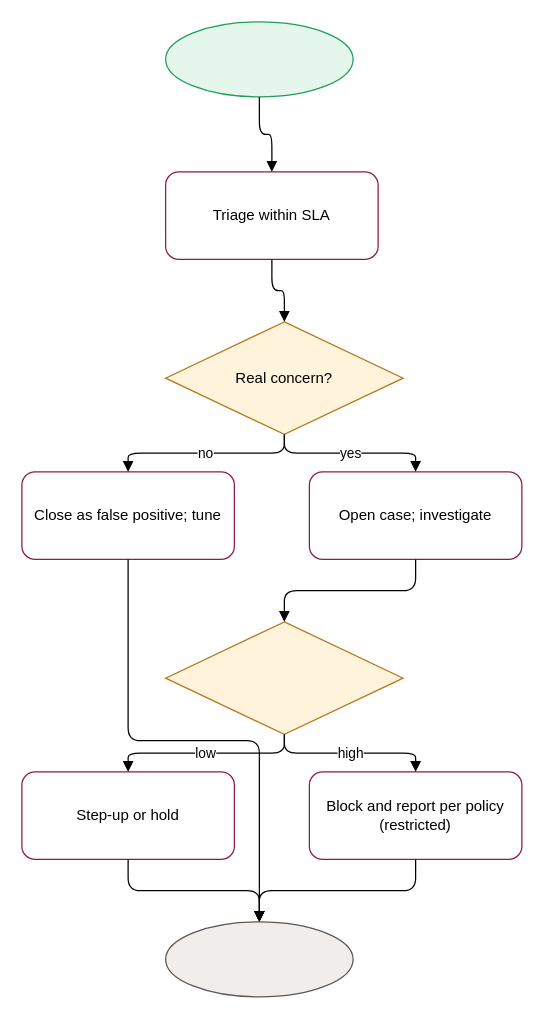
Image size: 544x1019. Some labels were removed from this diagram. Each missing label, with the centre of its shape:
Close with rationale: point 258,959
Outcome: point 283,677
Rule raises alert: point 258,59
